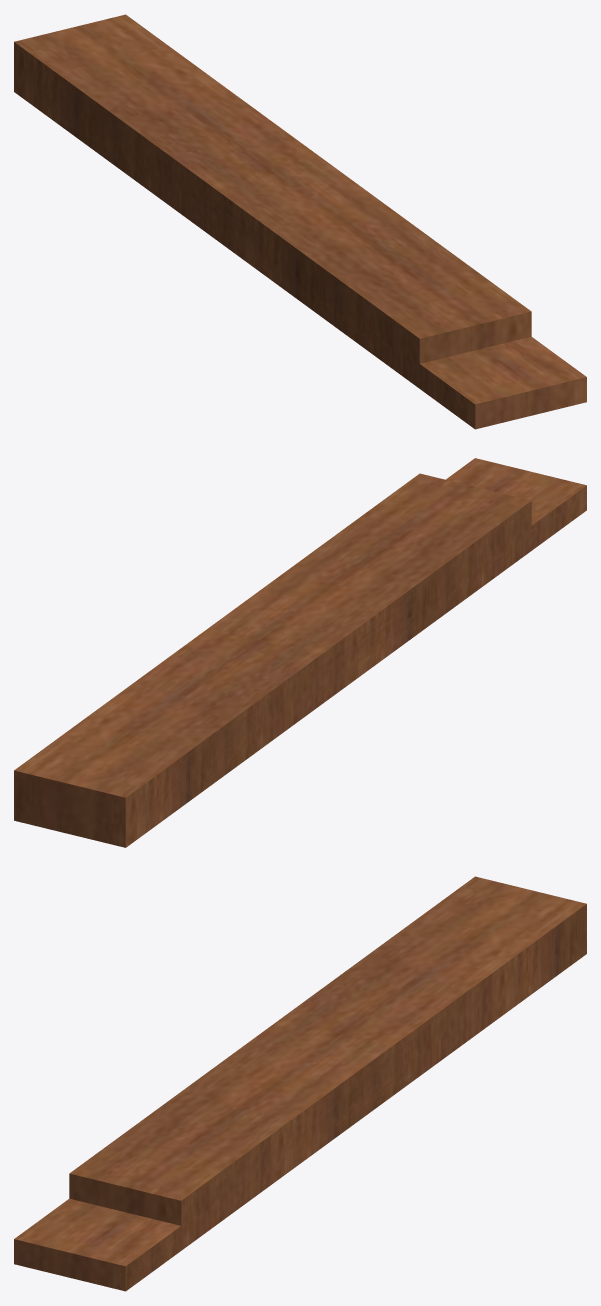
Rendered from original-41.obj.
3 renders of one model, top to bottom at view 1: azimuth 30°, elevation 25°; view 2: azimuth 150°, elevation 25°; view 3: azimuth 330°, elevation 25°, orthographic.
Parts seen in each view (by area): view 1: top_support_frame-stiles2/top_support_frame-stiles12/mesh74/mesh; view 2: top_support_frame-stiles2/top_support_frame-stiles12/mesh74/mesh; view 3: top_support_frame-stiles2/top_support_frame-stiles12/mesh74/mesh.
Boxes of the visible parts, <box> form: top_support_frame-stiles2/top_support_frame-stiles12/mesh74/mesh: <box>14,14,586,429</box>; top_support_frame-stiles2/top_support_frame-stiles12/mesh74/mesh: <box>14,458,586,847</box>; top_support_frame-stiles2/top_support_frame-stiles12/mesh74/mesh: <box>14,876,586,1291</box>.
Size of the model in its own units: 0.0918 by 0.0394 by 0.6558.
Materials: 2 (2 with a texture image).
